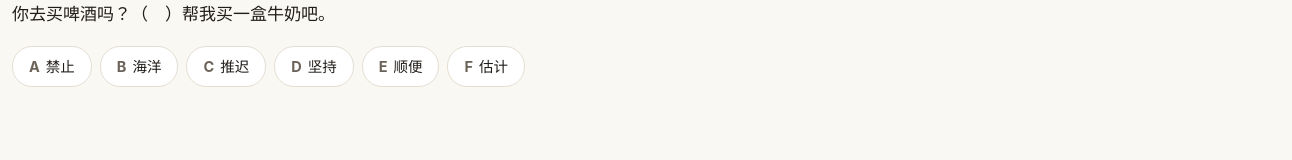
Test case: FillBlankQuestionComponent › marks a wrong chip red and highlights the answer
The width and height of the screenshot is (1292, 160).
Click the 1st button with class "bankchip": (52,66) [12,46,92,87]
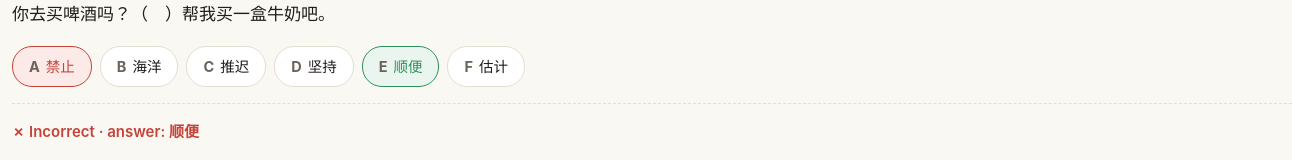
Expected: the text with class "bad" shows "answer: 顺便", [12,122,199,141]
